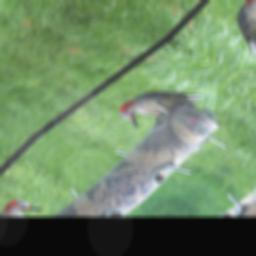Woodpecker: (113, 71, 208, 140)
